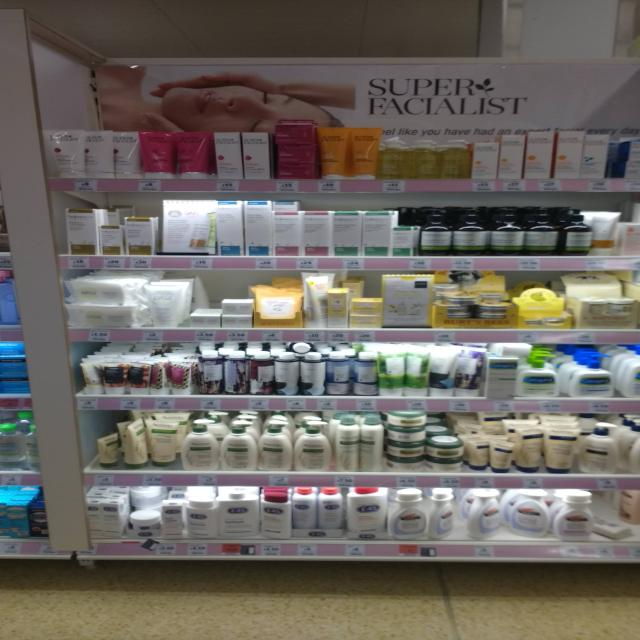unorganised: (595, 497, 635, 542), (510, 493, 548, 539), (466, 493, 504, 537), (428, 493, 463, 539), (471, 437, 512, 472), (518, 428, 544, 474), (123, 424, 146, 472), (306, 275, 327, 326), (147, 361, 172, 394), (94, 432, 117, 466), (610, 135, 628, 178), (77, 363, 103, 391)
